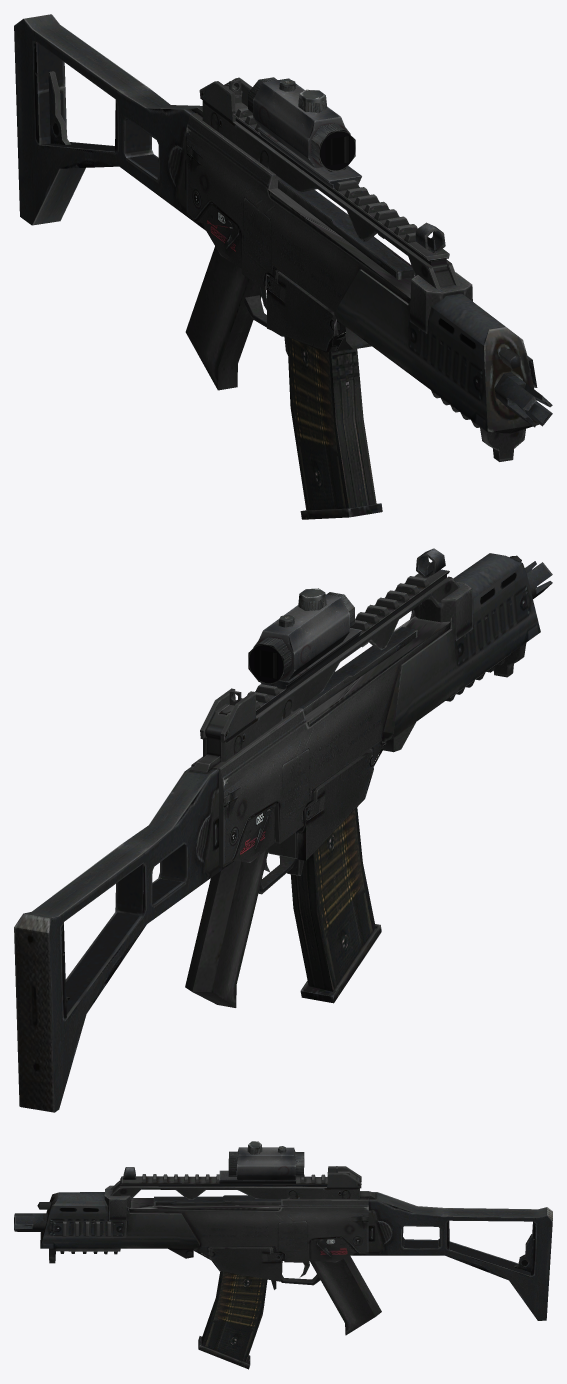
The picture shows the model from 3 angles, top to bottom: view 1: azimuth 30°, elevation 25°; view 2: azimuth 150°, elevation 25°; view 3: azimuth 270°, elevation 25°; orthographic projection. The views are drawn at different scales.
Visible parts, largest first — view 1: sm4_fa2; view 2: sm4_fa2; view 3: sm4_fa2.
Boxes of the visible parts, left/top/right/bottom form: sm4_fa2: left=14, top=14, right=552, bottom=519; sm4_fa2: left=14, top=548, right=552, bottom=1112; sm4_fa2: left=14, top=1141, right=552, bottom=1369.
Size of the model in its own units: 5.19 by 31.41 by 69.35.
